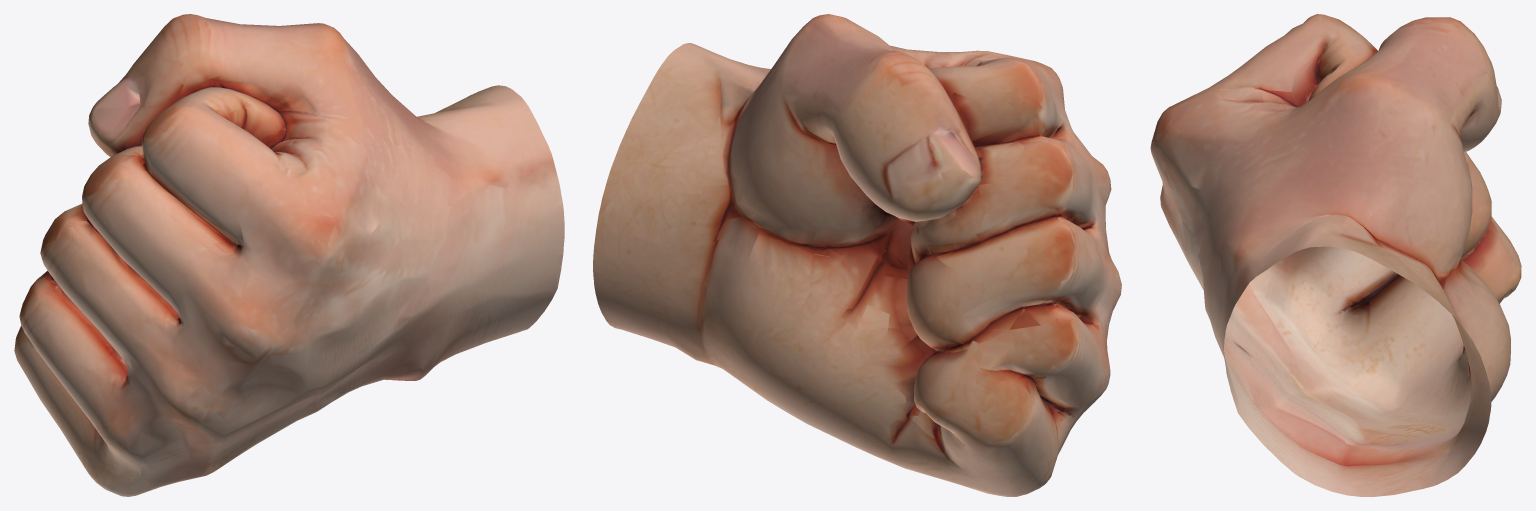
The model's file is fist_R.glb.
3 views of the same model, side by side, from view 1: azimuth 30°, elevation 25°; view 2: azimuth 150°, elevation 25°; view 3: azimuth 270°, elevation 25° (orthographic).
Visible parts, largest first — view 1: fist; view 2: fist; view 3: fist.
Boxes of the visible parts, x1,y1,x2,y2 form: fist: (14,14,564,496); fist: (593,14,1121,496); fist: (1150,14,1521,496).
Bounding box in the file's own units: 0.1332 × 0.1231 × 0.0958.
1 material, 1 textured.
